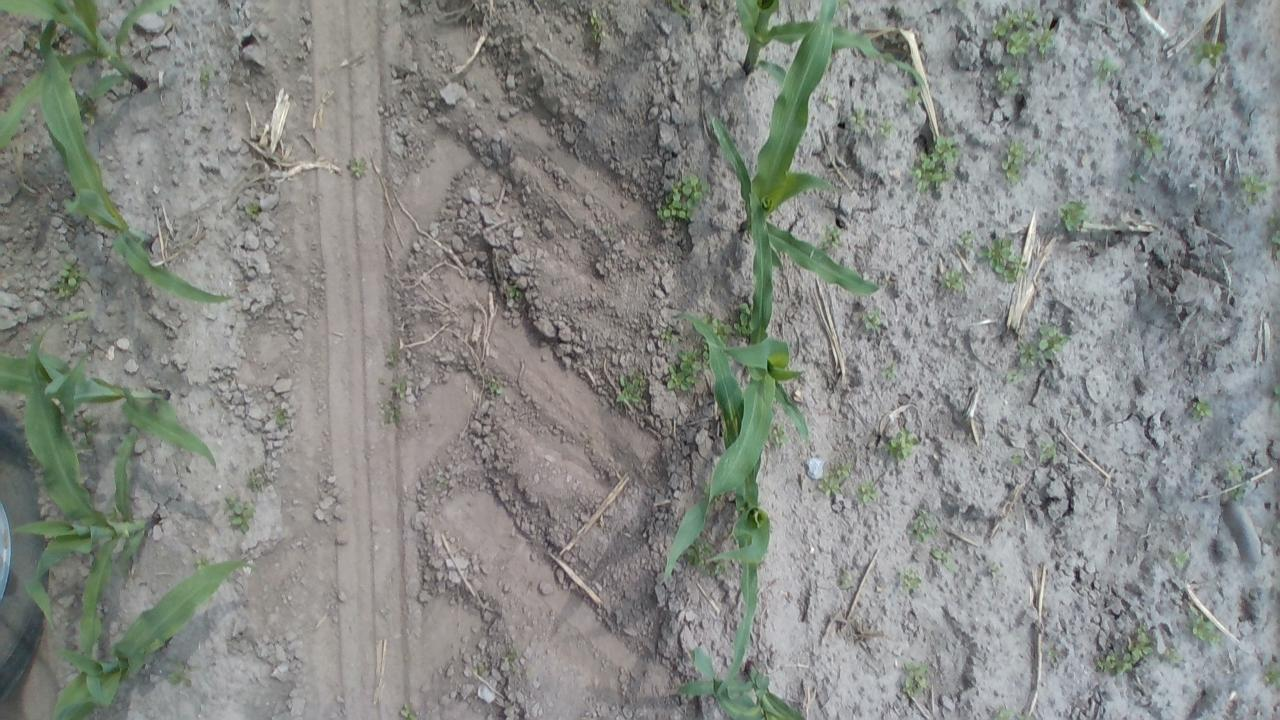Maize: (15, 17, 244, 308), (708, 0, 889, 318), (12, 340, 165, 666), (674, 310, 787, 700), (660, 306, 794, 582), (42, 555, 252, 720), (0, 321, 222, 472), (0, 0, 184, 159), (728, 2, 928, 104), (677, 649, 808, 720)
Weeds: (988, 3, 1052, 60), (1008, 322, 1071, 373), (910, 135, 960, 195), (1094, 626, 1156, 674), (656, 172, 706, 225), (977, 237, 1028, 280), (665, 344, 707, 394), (996, 138, 1036, 185), (1237, 168, 1272, 210), (612, 371, 652, 407), (882, 425, 922, 461), (905, 505, 940, 546), (224, 492, 256, 534), (1194, 35, 1232, 70), (1057, 197, 1091, 236), (817, 461, 852, 498), (54, 261, 88, 299), (901, 659, 932, 700), (1138, 125, 1164, 165), (1090, 57, 1121, 90), (165, 660, 198, 690), (1190, 610, 1218, 645), (1226, 459, 1247, 505), (993, 64, 1024, 94), (72, 413, 102, 444), (937, 266, 968, 293), (734, 298, 754, 339), (859, 305, 888, 333), (930, 544, 956, 574), (853, 480, 881, 507), (818, 224, 844, 252), (1190, 395, 1216, 422), (898, 567, 925, 593), (1040, 436, 1064, 464), (847, 105, 870, 134), (272, 402, 294, 432), (954, 230, 977, 257), (769, 419, 789, 450), (587, 12, 605, 46), (381, 402, 404, 428), (348, 154, 371, 178), (246, 467, 268, 492), (710, 314, 731, 340), (382, 344, 406, 366), (686, 542, 710, 564), (662, 322, 684, 346), (669, 0, 695, 20), (500, 644, 522, 667), (244, 200, 267, 222), (390, 375, 410, 400), (504, 279, 524, 304), (1170, 547, 1192, 569), (486, 376, 507, 399), (1259, 664, 1277, 690), (878, 115, 897, 139), (396, 701, 421, 719), (902, 84, 922, 106), (1040, 644, 1062, 664), (708, 560, 731, 578), (196, 65, 212, 90), (992, 703, 1016, 719), (986, 562, 1006, 581), (876, 363, 898, 380), (194, 554, 214, 572), (1162, 646, 1180, 666), (838, 571, 856, 590), (1002, 370, 1022, 386), (1009, 450, 1025, 467), (820, 88, 836, 105), (951, 0, 974, 10), (433, 474, 450, 487)
